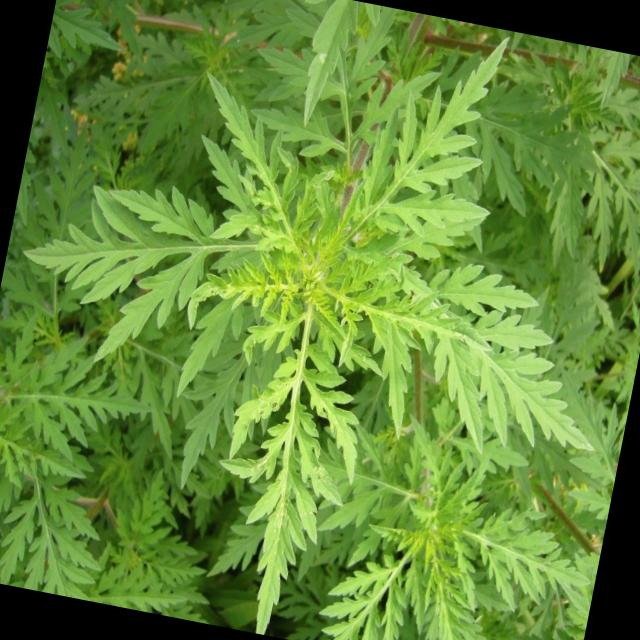ambrosia: (87, 77, 578, 527)
